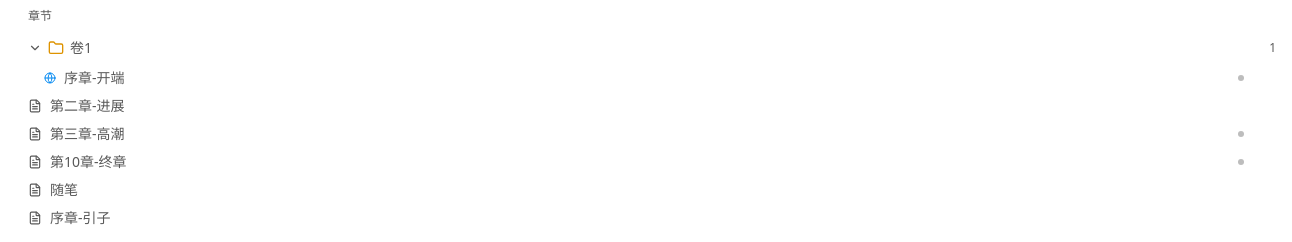
Test: KnowledgeTree › pointerdown 守卫：button!==0 早退；pointerType 空串 → mouse 回退
Check: the text "第二章-进展" is shown, box [50,96,124,115]
Press the mouse on the element showing "第二章-进展" at (652,106), box [20,92,1284,120]
Press the mouse on the element showing "第二章-进展" at (652,106), box [20,92,1284,120]
Right-click the element showing "第二章-进展" at (652,106), box [20,92,1284,120]
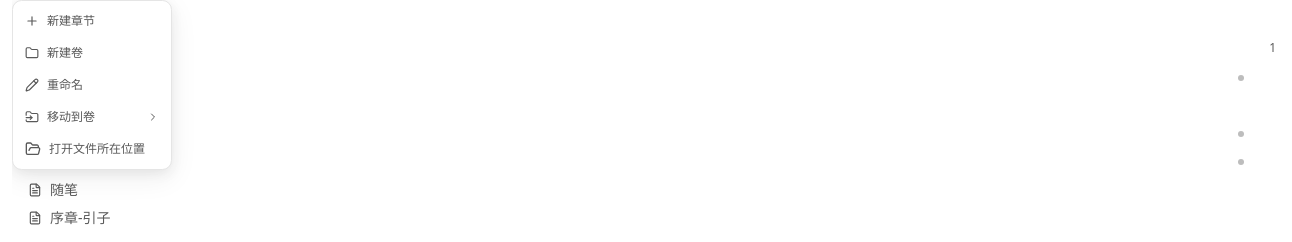
Check: the button "重命名" is shown, box [13,69,171,101]
